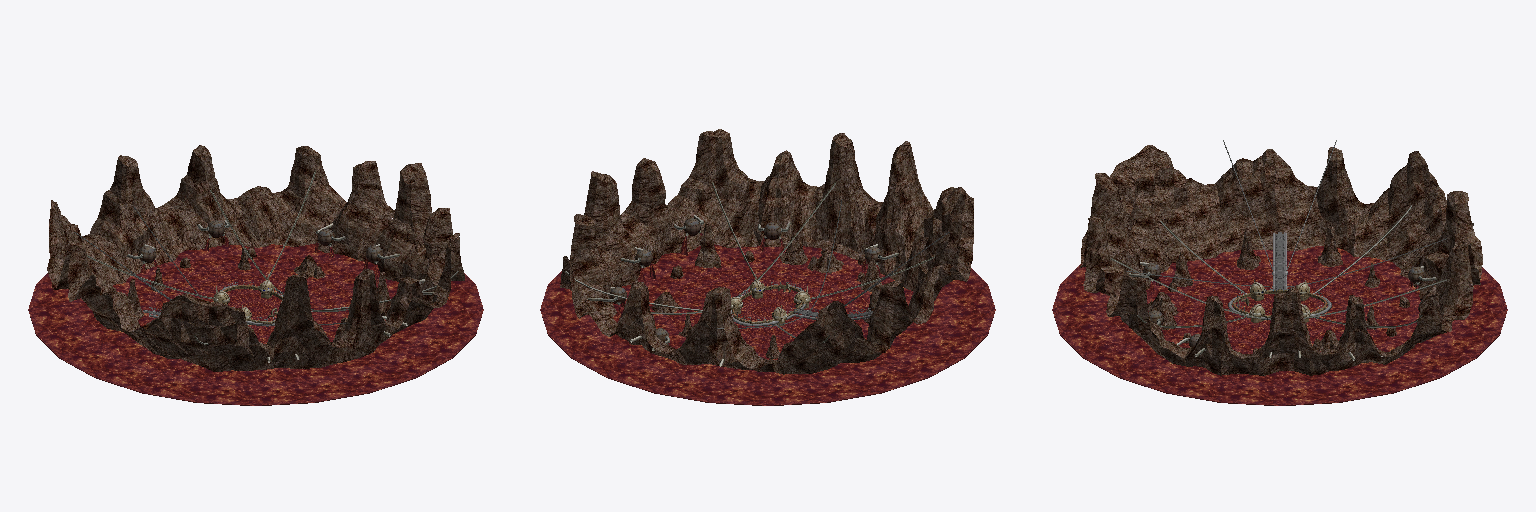
3 views of the same model, side by side, from view 1: azimuth 30°, elevation 25°; view 2: azimuth 150°, elevation 25°; view 3: azimuth 270°, elevation 25° (orthographic).
Visible parts, largest first — view 1: mountain_0, magma_0, rock_0, Line03_0; view 2: mountain_0, magma_0, rock_0, Line03_0; view 3: mountain_0, magma_0, rock_0, Line03_0.
Boxes of the visible parts, x1=… form: mountain_0: x1=47, y1=145, x2=464, y2=371; magma_0: x1=28, y1=243, x2=483, y2=405; rock_0: x1=128, y1=247, x2=390, y2=368; Line03_0: x1=87, y1=170, x2=458, y2=344; mountain_0: x1=560, y1=129, x2=973, y2=374; magma_0: x1=540, y1=244, x2=995, y2=405; rock_0: x1=651, y1=223, x2=881, y2=358; Line03_0: x1=565, y1=182, x2=934, y2=342; mountain_0: x1=1080, y1=145, x2=1482, y2=375; magma_0: x1=1052, y1=246, x2=1507, y2=405; rock_0: x1=1148, y1=227, x2=1409, y2=352; Line03_0: x1=1137, y1=205, x2=1422, y2=327.
Size of the model in its own units: 5194 by 1480 by 5194.
Materials: 27 (14 with a texture image).